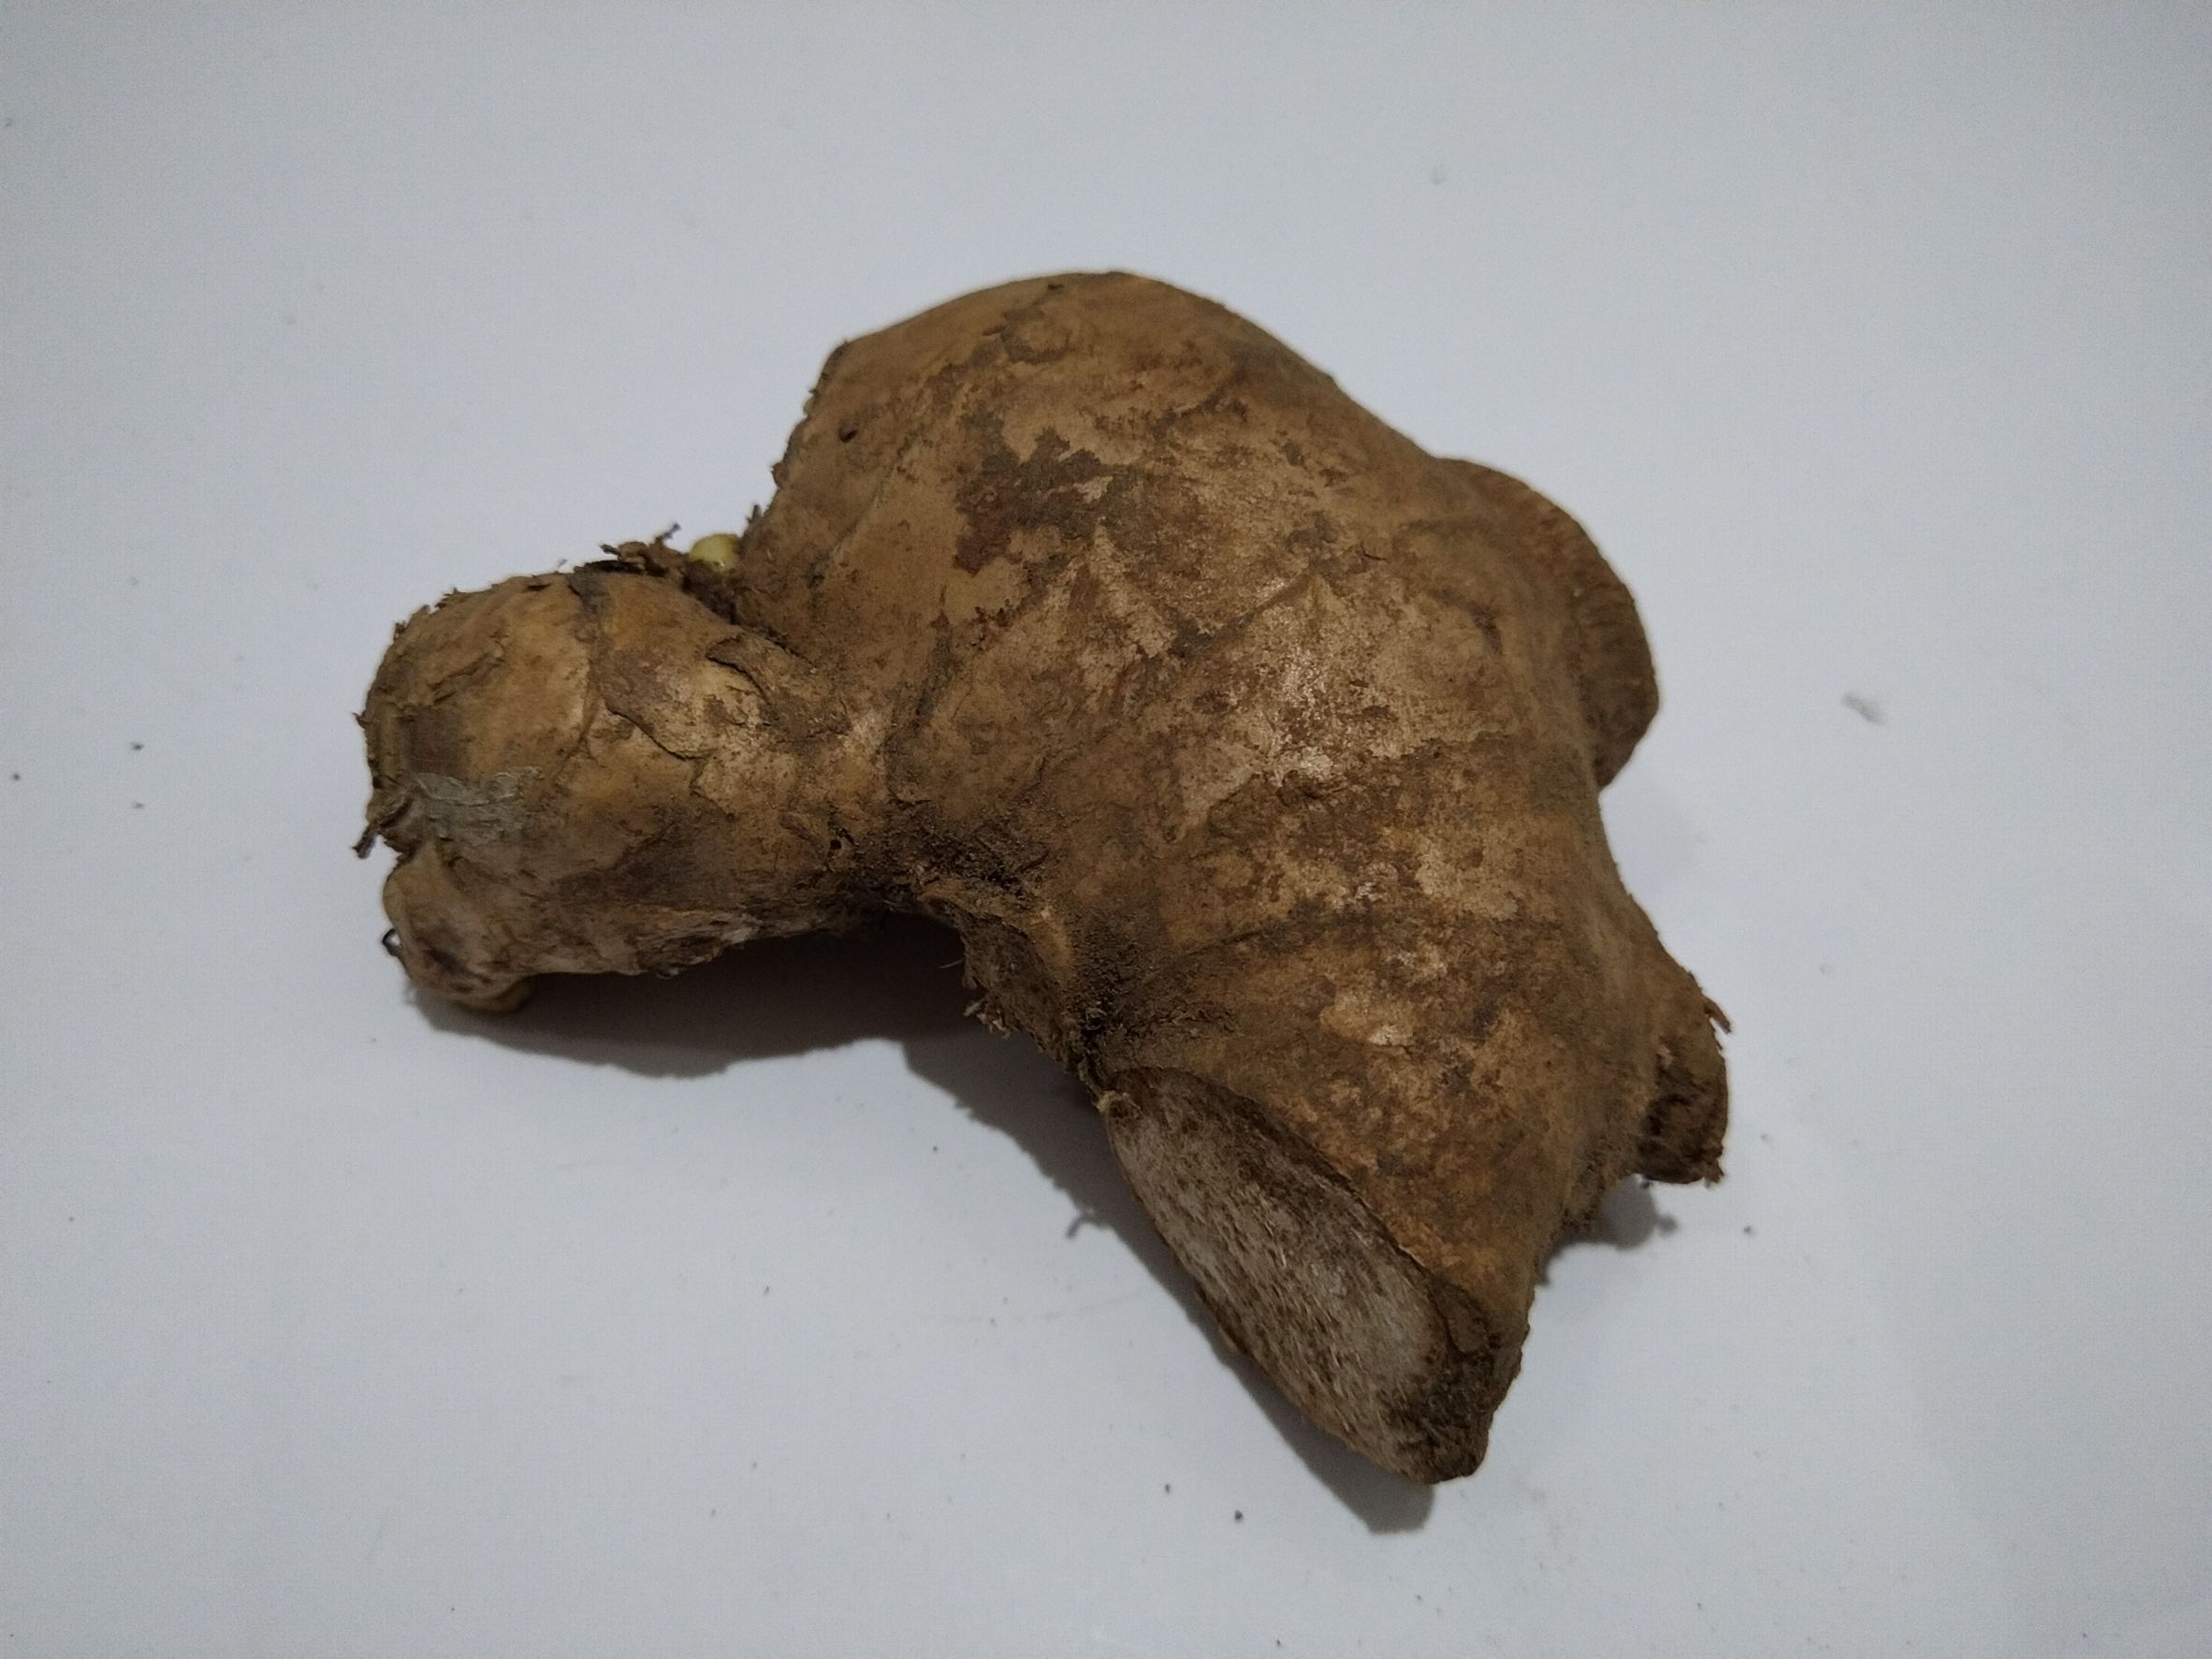Jahe: (371, 301, 1733, 1514)
